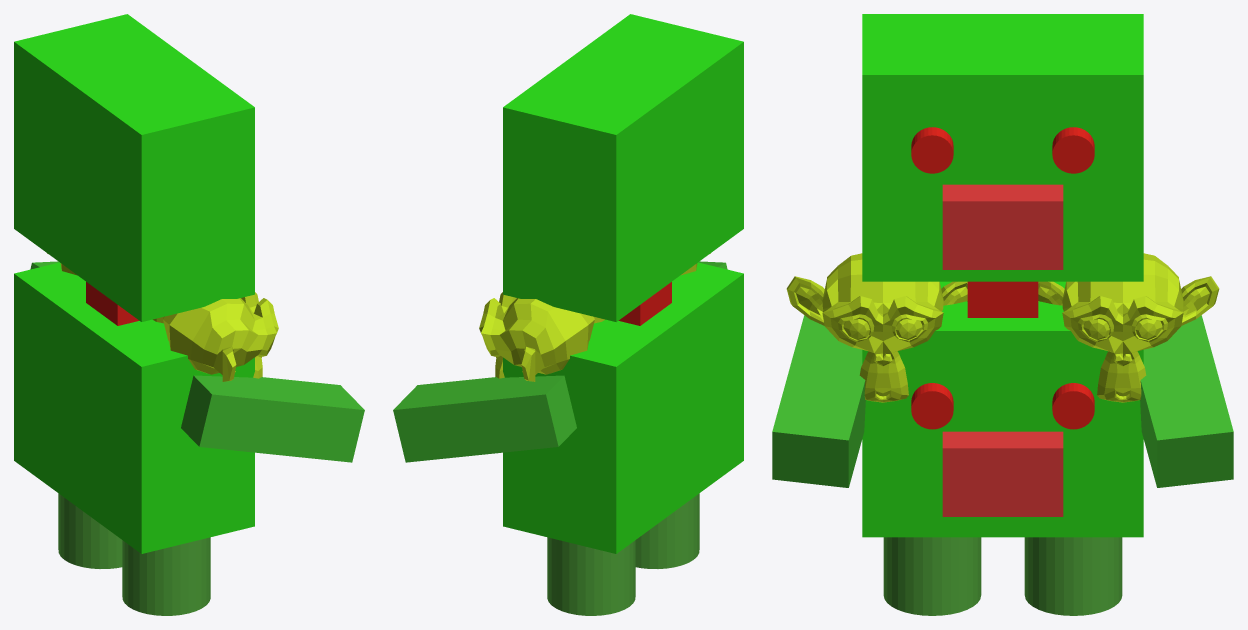
File: zonnbi.fbx
3 renders of one model, left to right at view 1: azimuth 30°, elevation 25°; view 2: azimuth 150°, elevation 25°; view 3: azimuth 270°, elevation 25°, orthographic. The views are drawn at different scales.
Visible parts, largest first — view 1: Cube.041, Cube, Cube.001, Suzanne.001, Cylinder.001, Cylinder, Cube.004; view 2: Cube.041, Cube, Cube.002, Suzanne, Cylinder, Cylinder.001, Cube.004; view 3: Cube.041, Cube, Cube.001, Cube.002, Suzanne, Suzanne.001, Cube.003, Cube.048, Cylinder, Cylinder.001, Cube.004, Cylinder.002 (+3 smaller).
Boxes of the visible parts, <box> form: Cube.041: <box>14,14,254,321</box>; Cube: <box>14,262,254,553</box>; Cube.001: <box>181,375,364,462</box>; Suzanne.001: <box>153,292,278,381</box>; Cylinder.001: <box>122,537,210,615</box>; Cylinder: <box>58,493,122,568</box>; Cube.004: <box>86,282,139,325</box>; Cube.041: <box>503,14,743,321</box>; Cube: <box>503,262,743,553</box>; Cube.002: <box>393,375,576,462</box>; Suzanne: <box>479,292,604,381</box>; Cylinder: <box>547,537,635,615</box>; Cylinder.001: <box>635,493,699,568</box>; Cube.004: <box>618,282,671,325</box>; Cube.041: <box>862,14,1143,281</box>; Cube: <box>862,281,1143,537</box>; Cube.001: <box>772,315,865,487</box>; Cube.002: <box>1140,315,1233,487</box>; Suzanne: <box>1038,253,1219,402</box>; Suzanne.001: <box>786,253,967,402</box>; Cube.003: <box>942,431,1063,516</box>; Cube.048: <box>942,184,1063,269</box>; Cylinder: <box>1024,537,1122,615</box>; Cylinder.001: <box>883,537,981,615</box>; Cube.004: <box>967,281,1038,317</box>; Cylinder.002: <box>1052,383,1094,429</box>.
Size of the model in its own units: 348 by 861 by 654.
